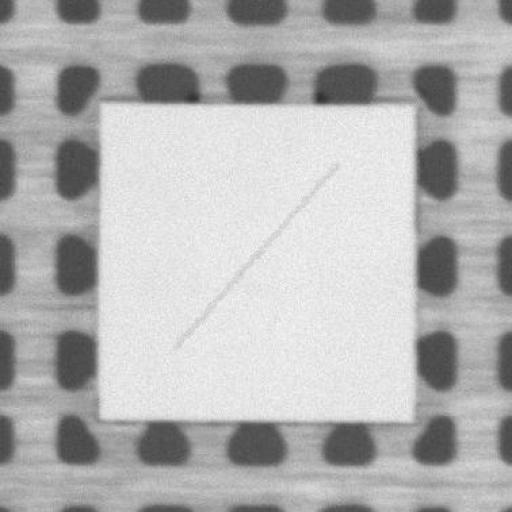DIE_CRACK: (173, 164, 335, 348)
